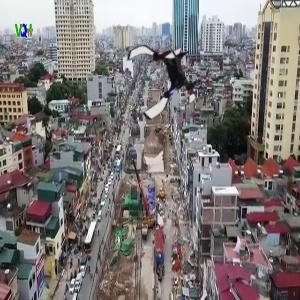drone: (122, 36, 204, 118)
